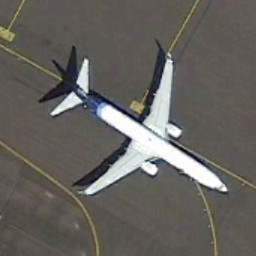Airplane: (34, 40, 240, 221)
